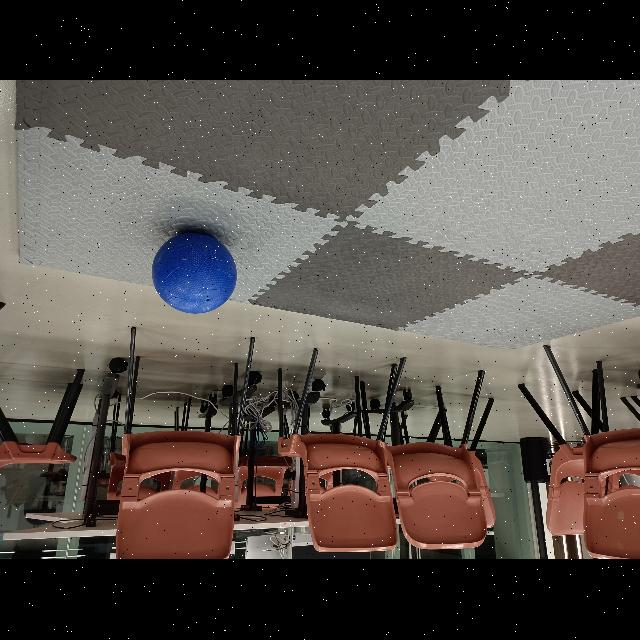B: (152, 230, 238, 314)
